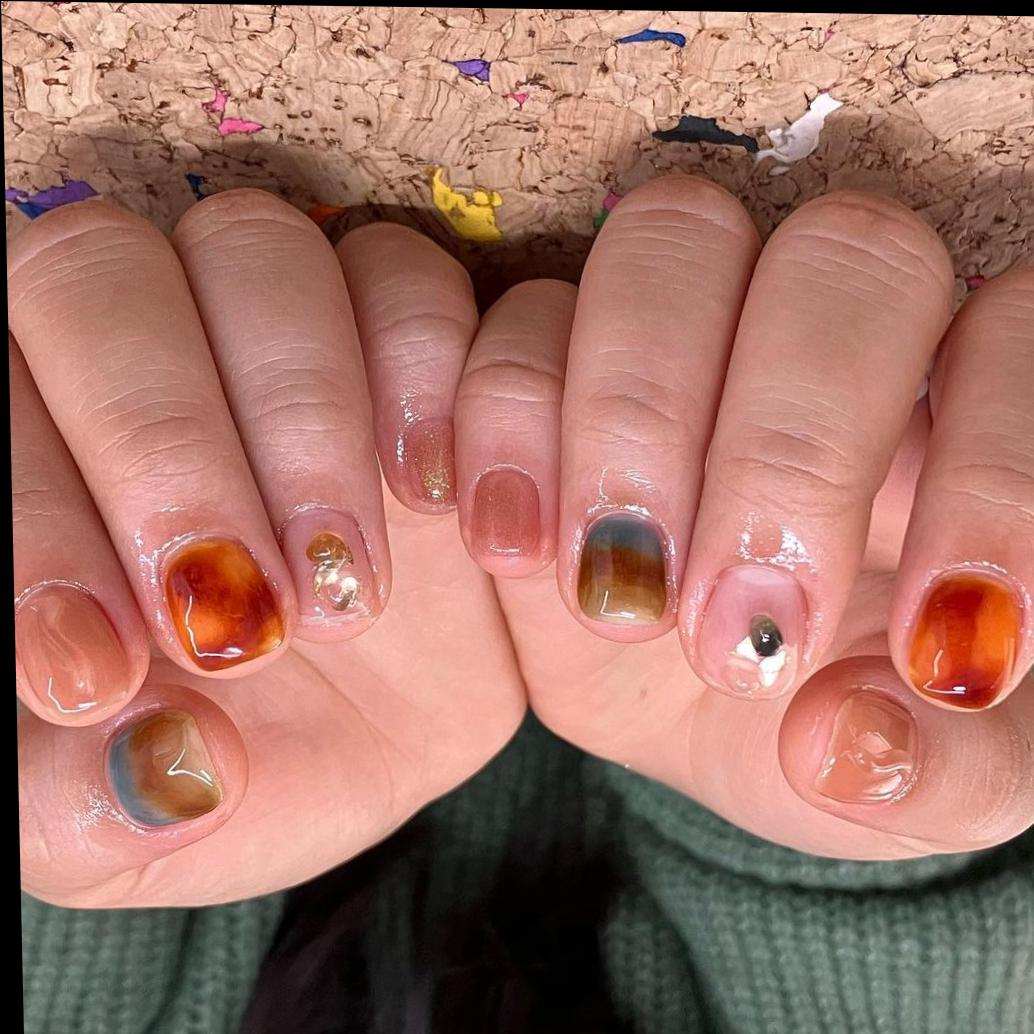nail: (4, 192, 300, 681), (546, 170, 772, 647), (168, 184, 395, 646), (774, 653, 1034, 857), (334, 219, 484, 517), (449, 276, 585, 580), (900, 559, 1032, 713), (158, 532, 287, 671), (691, 561, 811, 703), (13, 578, 133, 719), (277, 504, 385, 644), (573, 507, 673, 629)
